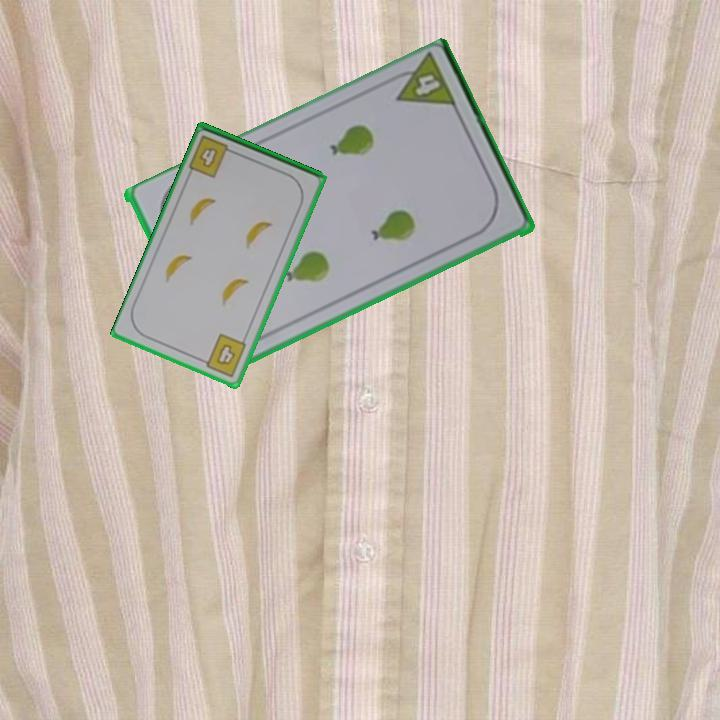4b: (197, 330, 249, 380), (186, 132, 239, 181)
4p: (411, 71, 443, 100)
